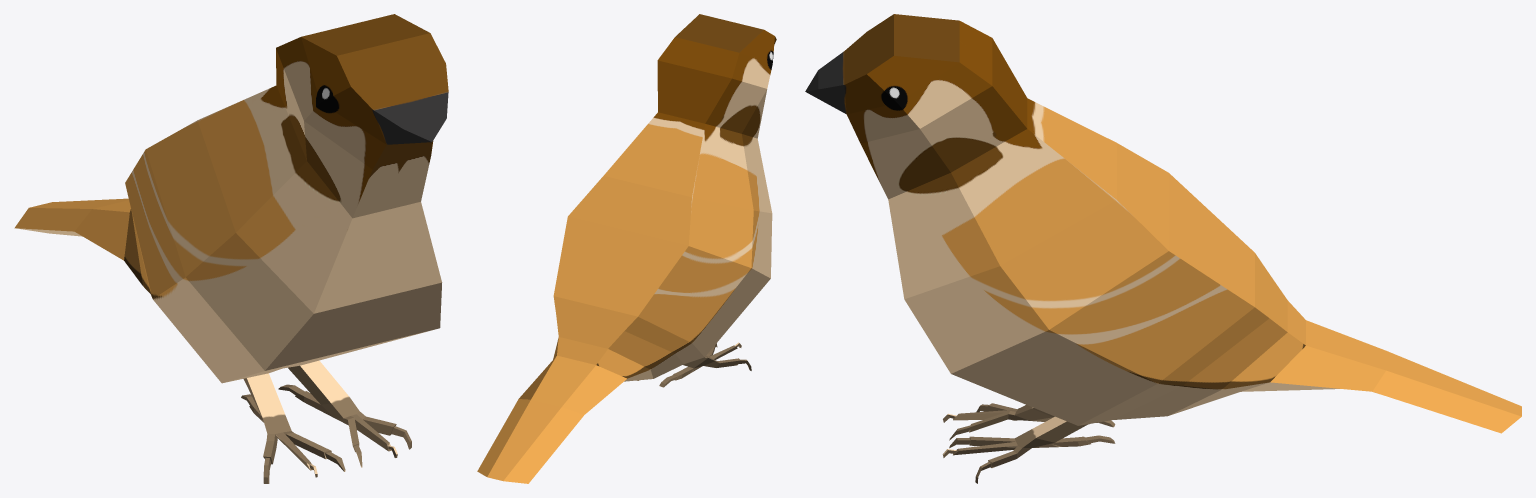
Rendered from karklazvirblis.glb.
The picture shows the model from 3 angles, left to right: view 1: azimuth 30°, elevation 25°; view 2: azimuth 150°, elevation 25°; view 3: azimuth 270°, elevation 25°; orthographic projection. The views are drawn at different scales.
Visible parts, largest first — view 1: Plane; view 2: Plane; view 3: Plane.
Boxes of the visible parts, x1,y1,x2,y2 form: Plane: (14, 14, 448, 483); Plane: (477, 14, 776, 483); Plane: (805, 14, 1521, 483).
Bounding box in the file's own units: 1.21 × 2.32 × 3.62.
Materials: 1 (1 with a texture image).
